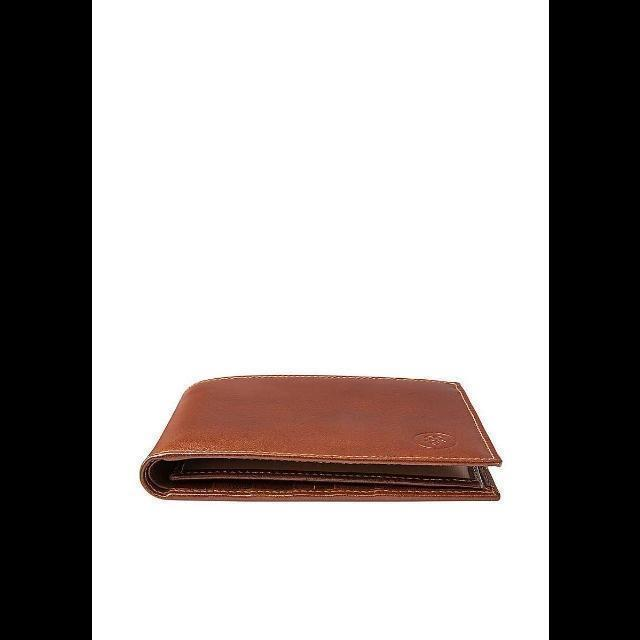Wallet: (136, 369, 508, 519)
